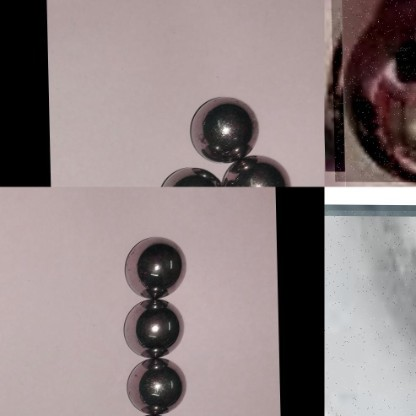ironball: (324, 209, 415, 415), (330, 0, 415, 182), (182, 94, 257, 158), (114, 295, 184, 358), (118, 235, 187, 296), (122, 353, 187, 411), (219, 151, 294, 184), (158, 158, 227, 186)
